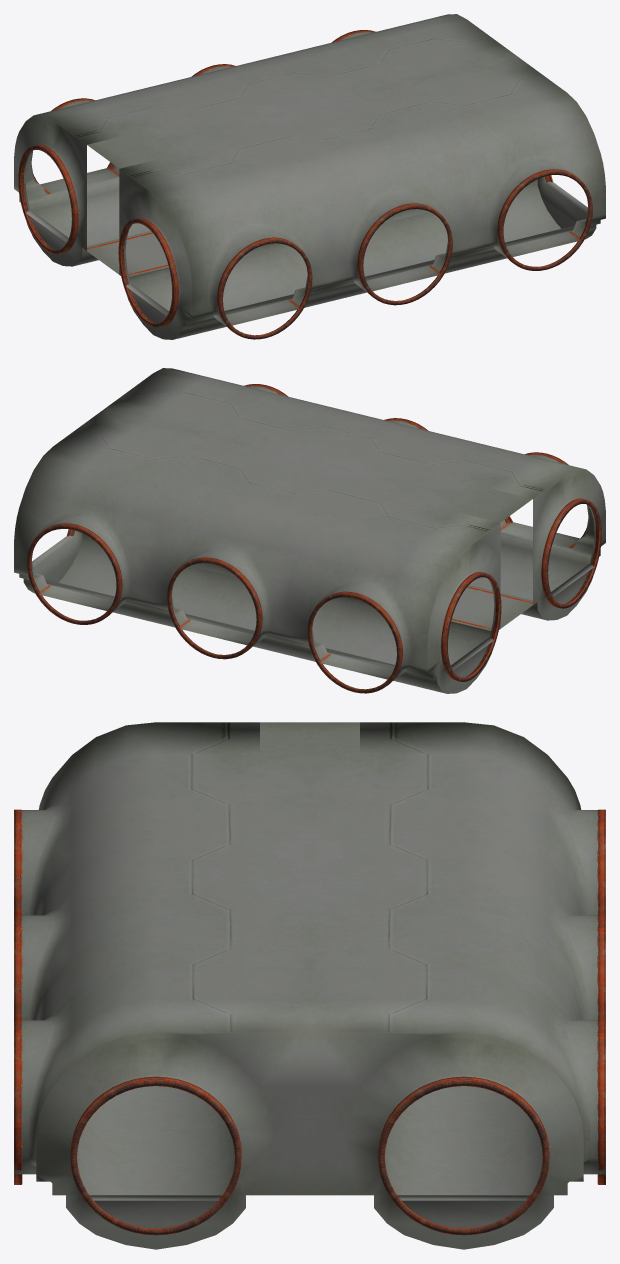
The model's file is tau_living_area_hub_light.dae.
3 renders of one model, top to bottom at view 1: azimuth 30°, elevation 25°; view 2: azimuth 150°, elevation 25°; view 3: azimuth 270°, elevation 25°, orthographic. The views are drawn at different scales.
Visible parts, largest first — view 1: polySurface378, pPipe49, pPipe60, pPipe45, pPipe44, pPipe46; view 2: polySurface378, pPipe60, pPipe49, pPipe43, pPipe42, pPipe40; view 3: polySurface378, pPipe47, pPipe41, pPipe40, pPipe46, pPipe43, pPipe44, pPipe42, pPipe45.
Part boxes in pixels (left/top/right/bottom): polySurface378: left=14, top=14, right=605, bottom=339; pPipe49: left=18, top=144, right=78, bottom=254; pPipe60: left=118, top=218, right=178, bottom=327; pPipe45: left=357, top=203, right=452, bottom=305; pPipe44: left=217, top=237, right=312, bottom=339; pPipe46: left=497, top=169, right=592, bottom=270; polySurface378: left=14, top=368, right=605, bottom=693; pPipe60: left=541, top=498, right=601, bottom=608; pPipe49: left=441, top=572, right=501, bottom=681; pPipe43: left=307, top=591, right=402, bottom=693; pPipe42: left=167, top=557, right=262, bottom=659; pPipe40: left=27, top=523, right=122, bottom=624; polySurface378: left=14, top=722, right=605, bottom=1249; pPipe47: left=70, top=1076, right=241, bottom=1235; pPipe41: left=378, top=1076, right=549, bottom=1235; pPipe40: left=597, top=1020, right=605, bottom=1184; pPipe46: left=14, top=1020, right=22, bottom=1184; pPipe43: left=597, top=809, right=605, bottom=914; pPipe44: left=14, top=809, right=22, bottom=914; pPipe42: left=597, top=915, right=605, bottom=1019; pPipe45: left=14, top=915, right=22, bottom=1019.
Bounding box in the file's own units: 16 × 5.07 × 12.5.
